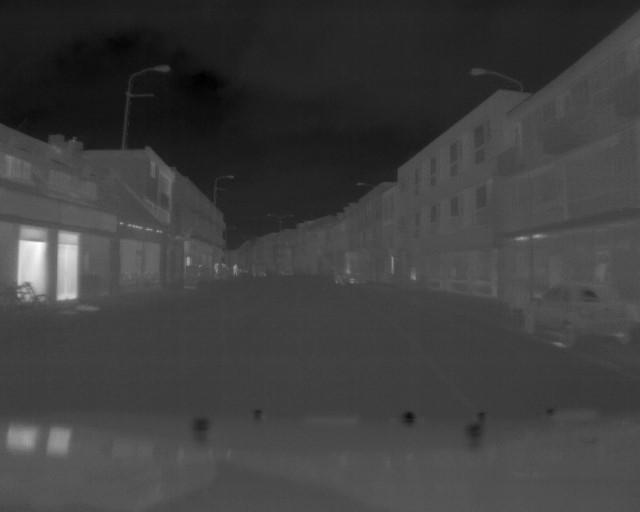car: (520, 274, 637, 351)
